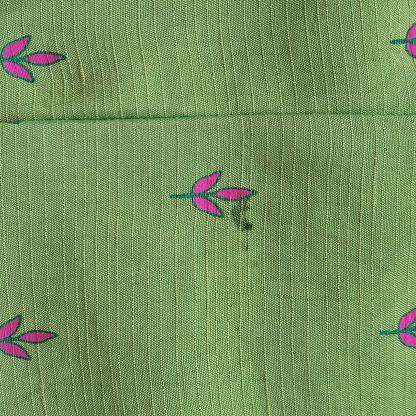spot: (230, 202, 255, 232), (243, 242, 251, 252)
